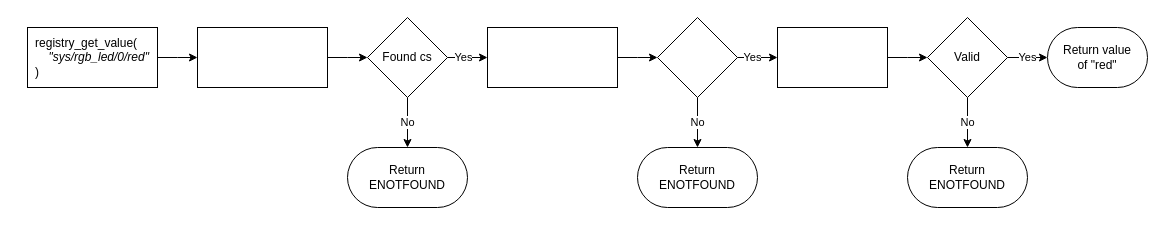
The diagram is 1174 pixels wide and 235 high, and some of its shapes have lost their labels. Each missing label, with the box of its shape:
cs->get( "red", si ): (776, 26, 888, 88)
Found si: (656, 16, 738, 98)
Search for "0" schema instance: (486, 26, 618, 88)
Search for "rgb_led" configuration schema in "sys" root group: (196, 26, 328, 88)
